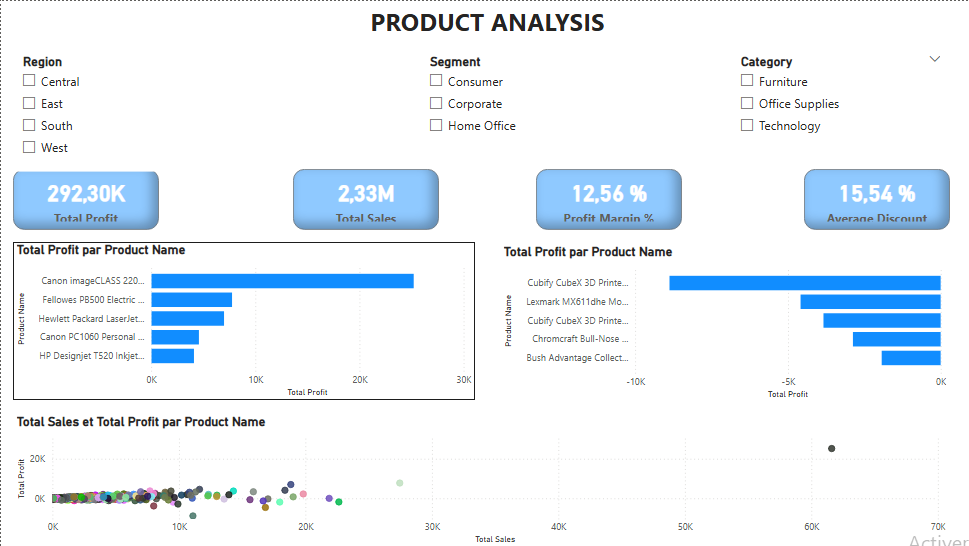

The page's visual inventory and layout, read from the dashboard file:
{"tool":"powerbi","page":{"name":"Product Analysis","canvas":[1280,720],"ordinal":2},"visuals":[{"type":"clusteredBarChart","fields":{"Category":["Fact_Orders.Product Name"],"Y":["Mesures.Total Profit"]},"box":[16,316.6,608,208],"z":0},{"type":"clusteredBarChart","fields":{"Category":["Fact_Orders.Product Name"],"Y":["Mesures.Total Profit"]},"box":[656,320,592,208],"z":1000},{"type":"scatterChart","fields":{"Y":["Mesures.Total Profit"],"X":["Mesures.Total Sales"],"Series":["Fact_Orders.Product Name"]},"box":[16,544,1232,176],"z":2000},{"type":"card","fields":{"Values":["Mesures.Total Sales"]},"box":[384,220.5,192,80],"z":3000},{"type":"card","fields":{"Values":["Mesures.Total Profit"]},"box":[16,220.5,192,80],"z":4000},{"type":"card","fields":{"Values":["Mesures.Average Discount"]},"box":[1056,220.5,192,80],"z":5000},{"type":"card","fields":{"Values":["Mesures.Profit Margin %"]},"box":[704,220.5,192,80],"z":6000},{"type":"textbox","box":[0,0,1280,64],"z":7000},{"type":"textbox","box":[0,10,1280,64],"z":8000},{"type":"textbox","box":[0,0,1280,64],"z":9000},{"type":"slicer","fields":{"Values":["Fact_Orders.Region"]},"box":[16,64,288,160],"z":10000},{"type":"slicer","fields":{"Values":["Fact_Orders.Category"]},"box":[960,64,288,144],"z":11000},{"type":"slicer","fields":{"Values":["Fact_Orders.Segment"]},"box":[551,64.4,272,144],"z":12000}]}

Visuals, with their boxes in screenshot pixels (x1, y1, x2, y2), scaled from the page's 1280x720 canvas onto the 969x546 screenshot:
clusteredBarChart - Fact_Orders.Product Name x Mesures.Total Profit: (12, 240, 472, 398)
clusteredBarChart - Fact_Orders.Product Name x Mesures.Total Profit: (497, 243, 945, 400)
scatterChart - Mesures.Total Profit x Mesures.Total Sales: (12, 413, 945, 545)
card - Mesures.Total Sales: (291, 167, 436, 228)
card - Mesures.Total Profit: (12, 167, 157, 228)
card - Mesures.Average Discount: (799, 167, 945, 228)
card - Mesures.Profit Margin %: (533, 167, 678, 228)
textbox: (0, 0, 968, 49)
textbox: (0, 8, 968, 56)
textbox: (0, 0, 968, 49)
slicer - Fact_Orders.Region: (12, 49, 230, 170)
slicer - Fact_Orders.Category: (727, 49, 945, 158)
slicer - Fact_Orders.Segment: (417, 49, 623, 158)
